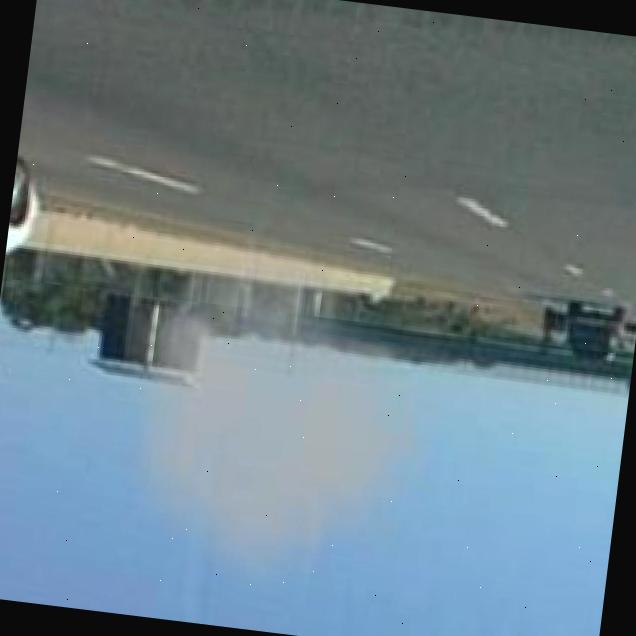smoke: (96, 211, 485, 626)
